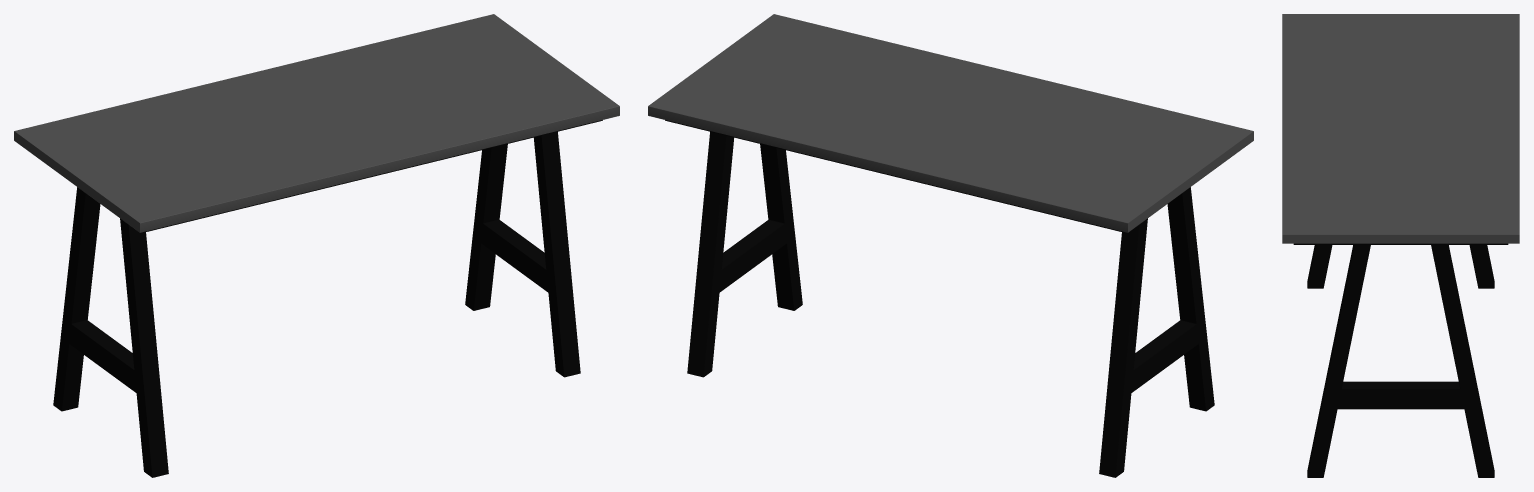
File: Mesita.fbx
The picture shows the model from 3 angles, left to right: view 1: azimuth 30°, elevation 25°; view 2: azimuth 150°, elevation 25°; view 3: azimuth 270°, elevation 25°; orthographic projection. The views are drawn at different scales.
Parts seen in each view (by area): view 1: Desk; view 2: Desk; view 3: Desk.
Part boxes in pixels (x1,y1,x2,y2): Desk: (14,14,619,477); Desk: (648,14,1253,477); Desk: (1282,14,1519,477).
Bounding box in the file's own units: 154 × 83.07 × 70.
1 material, 1 textured.
